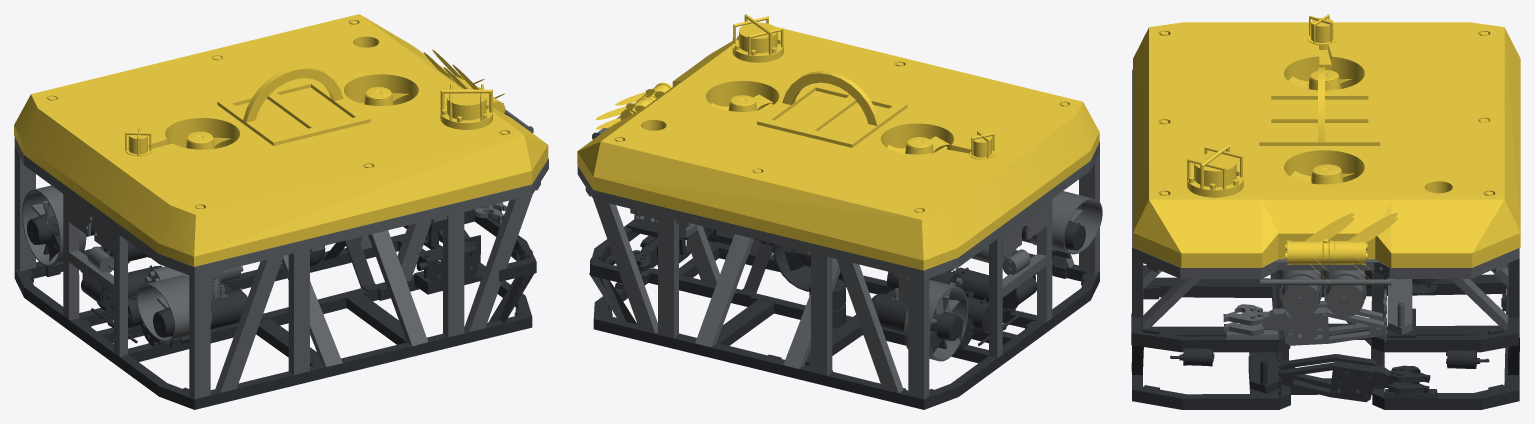
Rendered from menu-rov.glb.
3 views of the same model, side by side, from view 1: azimuth 30°, elevation 25°; view 2: azimuth 150°, elevation 25°; view 3: azimuth 270°, elevation 25° (orthographic). The views are drawn at different scales.
Parts seen in each view (by area): view 1: [Color_001], [Metal_Aluminum_Anodized]4, [Color_007]; view 2: [Color_001], [Metal_Aluminum_Anodized]4, [Color_007]; view 3: [Color_001], [Color_007], [Metal_Aluminum_Anodized]4.
Boxes of the visible parts, x1,y1,x2,y2 form: [Color_001]: [14, 14, 548, 266]; [Metal_Aluminum_Anodized]4: [14, 109, 548, 399]; [Color_007]: [14, 209, 536, 409]; [Color_001]: [577, 14, 1099, 270]; [Metal_Aluminum_Anodized]4: [577, 116, 1102, 399]; [Color_007]: [589, 219, 1099, 409]; [Color_001]: [1133, 14, 1520, 282]; [Color_007]: [1131, 263, 1519, 409]; [Metal_Aluminum_Anodized]4: [1132, 69, 1519, 364].
Size of the model in its own units: 1.64 by 0.8662 by 1.22.
